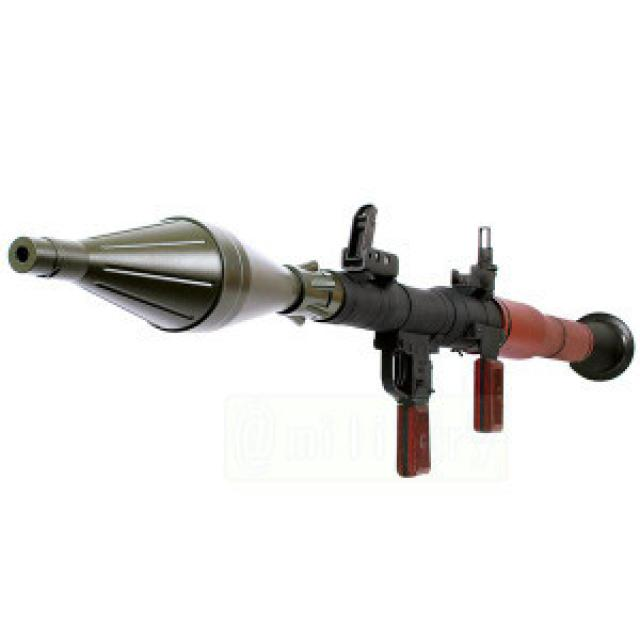bazooka: (10, 122, 640, 494)
